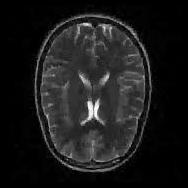Normal_Brain: (1, 1, 188, 188)
